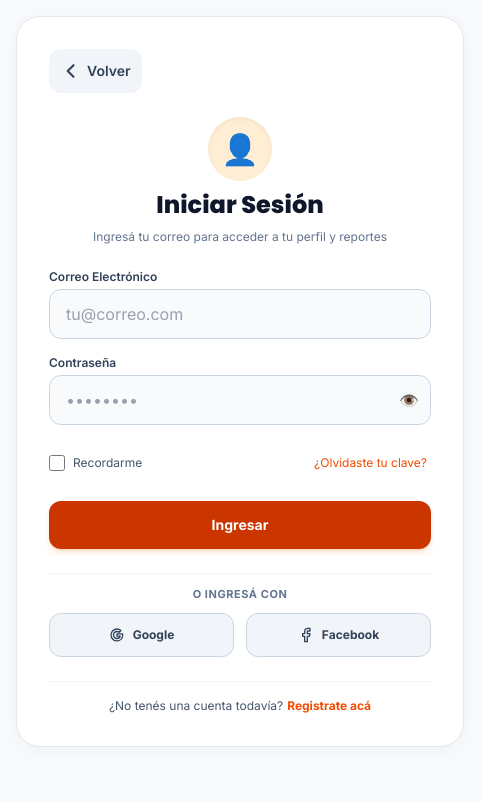
it: LoginPage › muestra debajo del campo de contraseña los errores que devuelve el back
Type "miembro@callejeros.ar" into the field labelled "Correo Electrónico".
click(240, 314); type("miembro@callejeros.ar")  # box [49, 289, 431, 339]
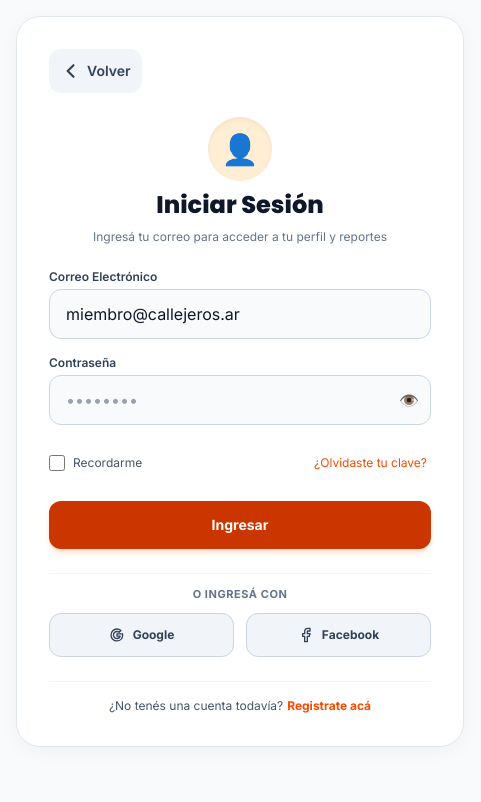
Type "123456" into the password field labelled "Contraseña".
click(240, 400); type("123456")  # box [49, 375, 431, 425]
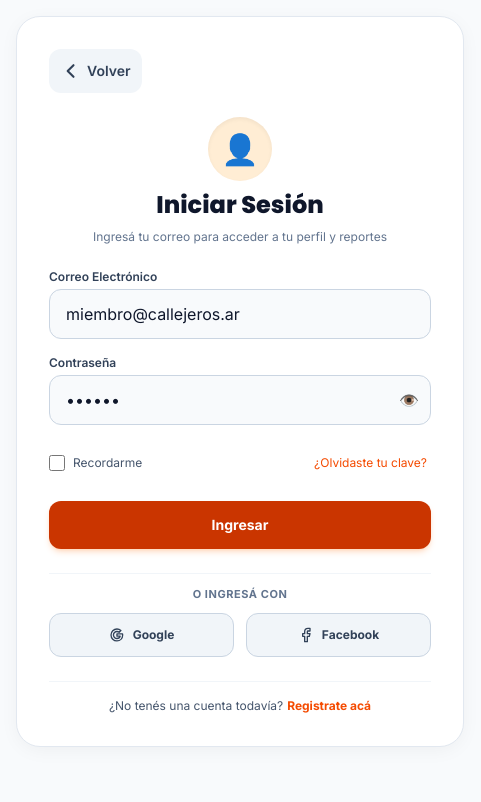
Click the button "Ingresar".
click(240, 525)  # box [49, 501, 431, 549]
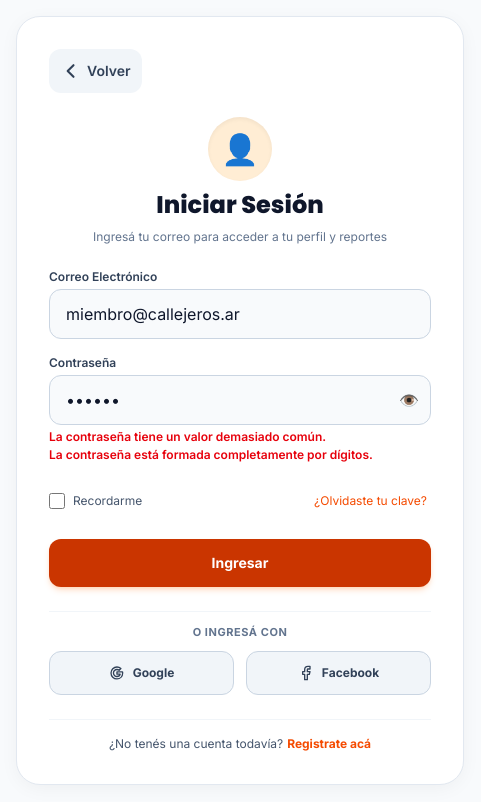
Expected: the text "La contraseña tiene un valor demasiado común." is shown, [49, 429, 326, 444]
Expected: the text "La contraseña está formada completamente por dígitos." is shown, [49, 447, 373, 462]
